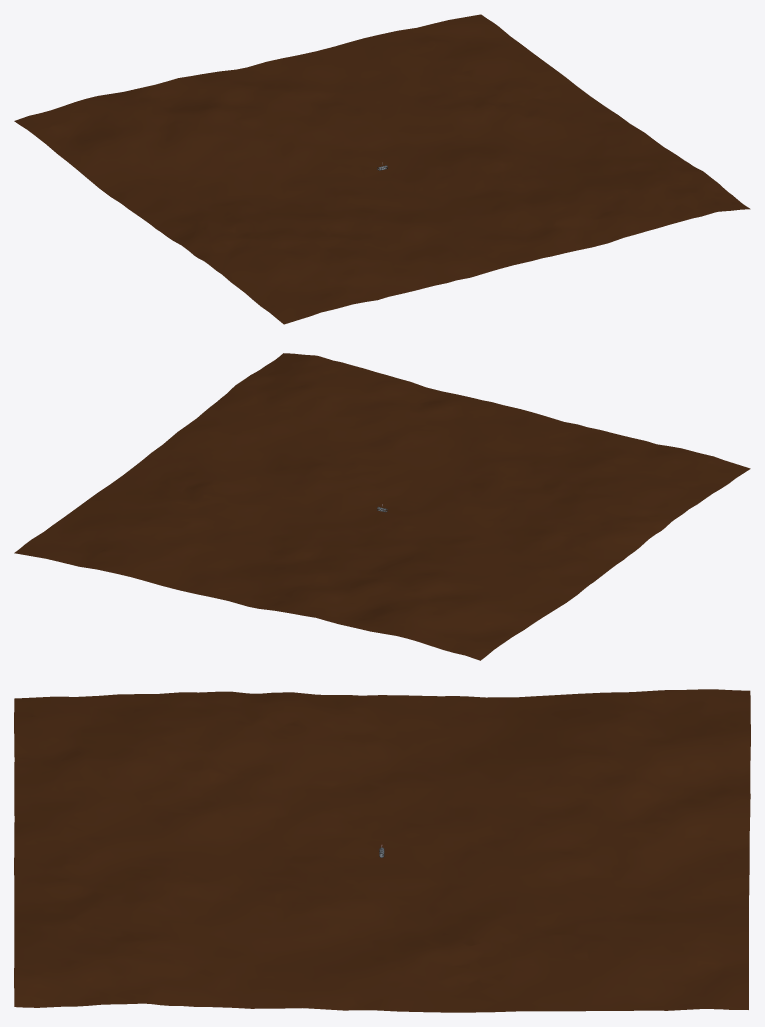
File: LightCable.runtime.glb
The picture shows the model from 3 angles, top to bottom: view 1: azimuth 30°, elevation 25°; view 2: azimuth 150°, elevation 25°; view 3: azimuth 270°, elevation 25°; orthographic projection. The views are drawn at different scales.
Parts seen in each view (by area): view 1: SeaBottom; view 2: SeaBottom; view 3: SeaBottom.
Boxes of the visible parts, left/top/right/bottom form: SeaBottom: left=14, top=14, right=750, bottom=324; SeaBottom: left=14, top=353, right=750, bottom=660; SeaBottom: left=14, top=689, right=750, bottom=1012.
Size of what is drawn, in the model's own units: 100 by 3.12 by 100.
Materials: 4 (3 with a texture image).
